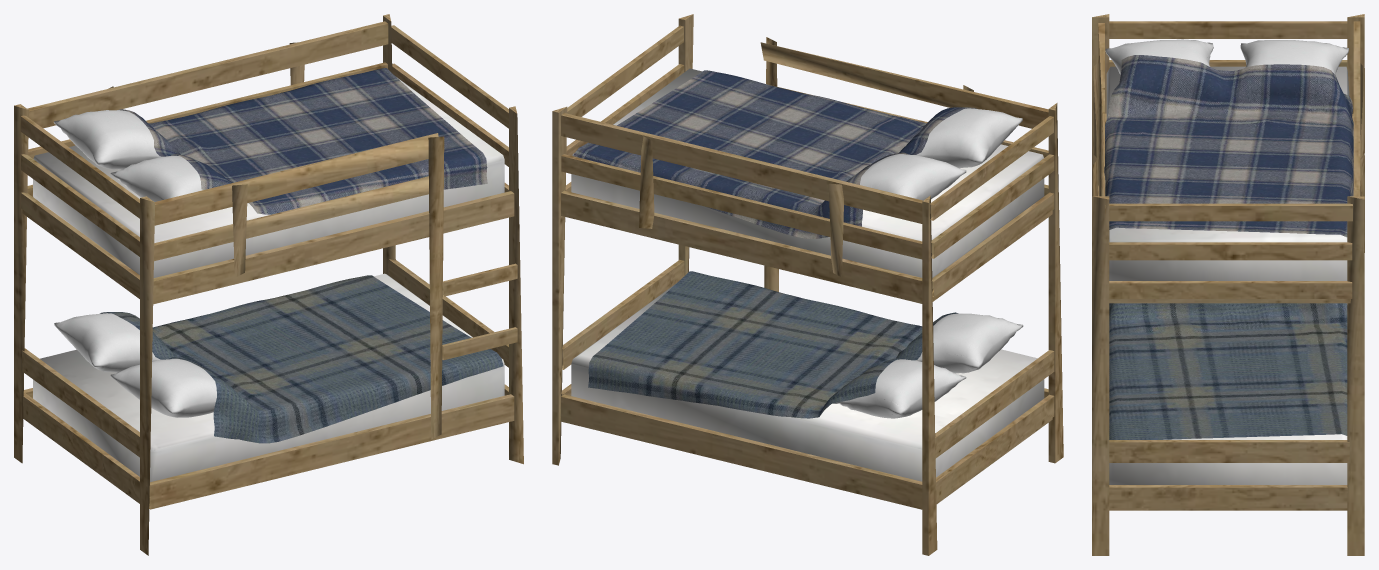
File: simple_bunk_bed.glb
3 renders of one model, left to right at view 1: azimuth 30°, elevation 25°; view 2: azimuth 150°, elevation 25°; view 3: azimuth 270°, elevation 25°, orthographic.
Parts seen in each view (by area): view 1: Object_2, Object_3, Object_4, Object_8, Object_5, Object_6, Object_7; view 2: Object_2, Object_3, Object_4, Object_8, Object_5, Object_6, Object_7; view 3: Object_2, Object_4, Object_3, Object_5, Object_8, Object_7.
Boxes of the visible parts, box(x1,y1,x2,y2) form: Object_2: box(14, 14, 523, 555); Object_3: box(100, 275, 503, 443); Object_4: box(119, 68, 487, 214); Object_8: box(33, 273, 504, 482); Object_5: box(33, 77, 504, 277); Object_6: box(54, 313, 216, 417); Object_7: box(53, 110, 202, 201); Object_2: box(552, 14, 1063, 555); Object_3: box(588, 271, 958, 418); Object_4: box(573, 70, 976, 238); Object_8: box(571, 282, 1044, 481); Object_5: box(571, 68, 1044, 277); Object_6: box(836, 313, 1023, 418); Object_7: box(860, 108, 1022, 200); Object_2: box(1092, 14, 1364, 555); Object_4: box(1104, 55, 1353, 237); Object_3: box(1109, 303, 1347, 439); Object_5: box(1106, 66, 1349, 280); Object_8: box(1109, 303, 1347, 484); Object_7: box(1105, 39, 1348, 74).
Size of the model in its own units: 17.2 by 15.4 by 10.69.
Materials: 7 (7 with a texture image).
